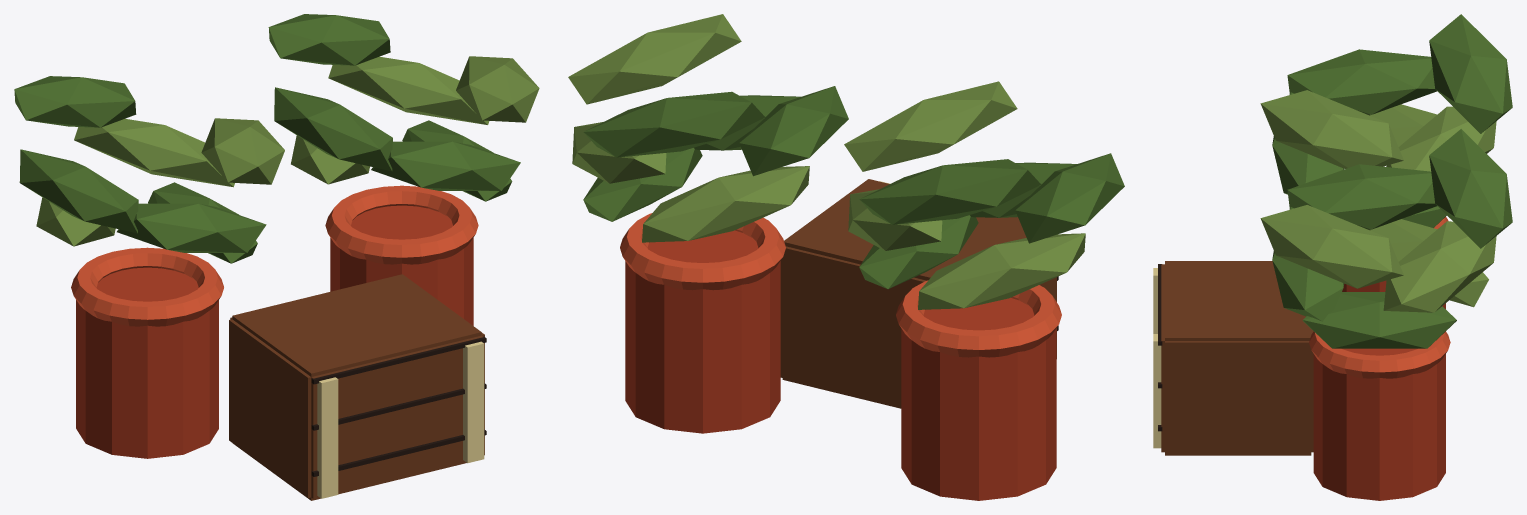
File: street_props.glb
3 renders of one model, left to right at view 1: azimuth 30°, elevation 25°; view 2: azimuth 150°, elevation 25°; view 3: azimuth 270°, elevation 25°, orthographic. The views are drawn at different scales.
Parts seen in each view (by area): view 1: Neighbourhood doorstepMesh; view 2: Neighbourhood doorstepMesh; view 3: Neighbourhood doorstepMesh.
Part boxes in pixels (<box>): Neighbourhood doorstepMesh: <box>14,14,539,500</box>; Neighbourhood doorstepMesh: <box>568,14,1124,500</box>; Neighbourhood doorstepMesh: <box>1153,14,1512,500</box>.
Size of the model in its own units: 2.19 by 1.42 by 1.52.
